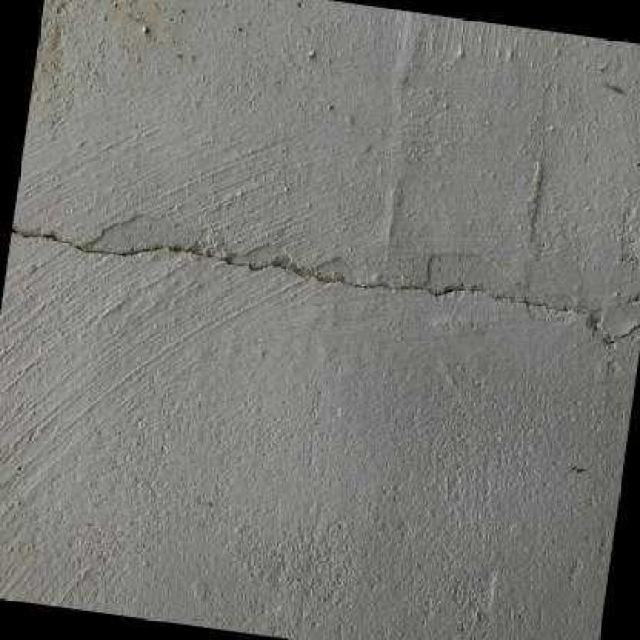D00: (9, 220, 640, 344)
